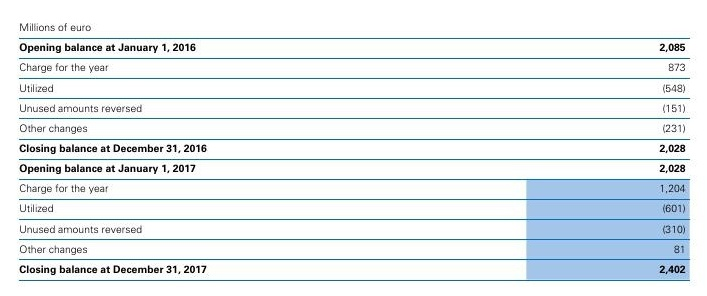table: (0, 0, 707, 296)
